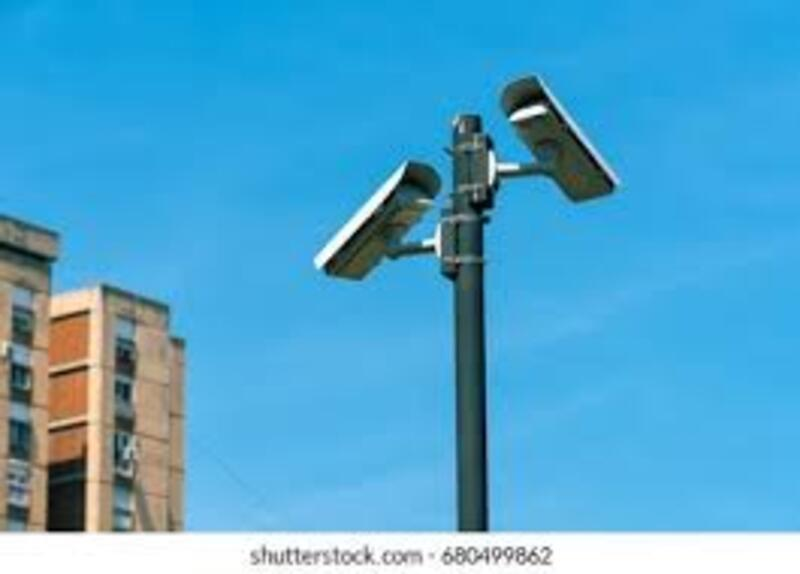box: (475, 103, 556, 265), (402, 135, 481, 294)
